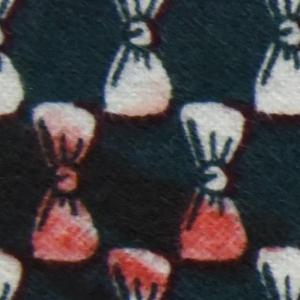Stain: (1, 93, 291, 300)
